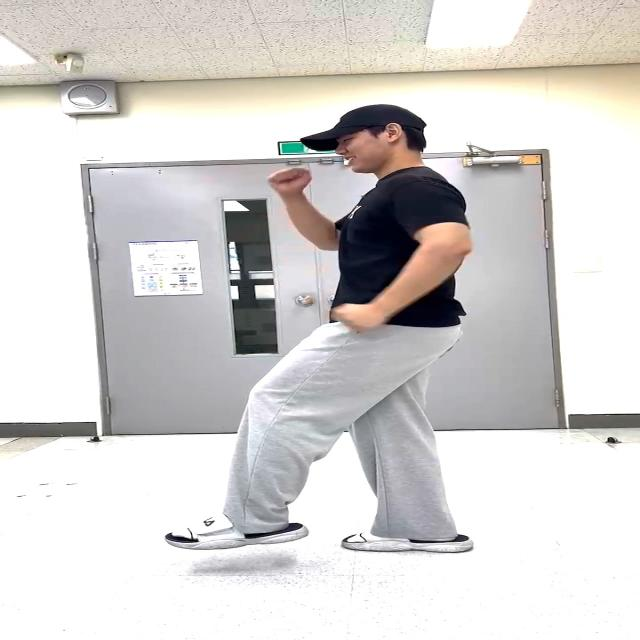leg: (156, 328, 385, 586)
